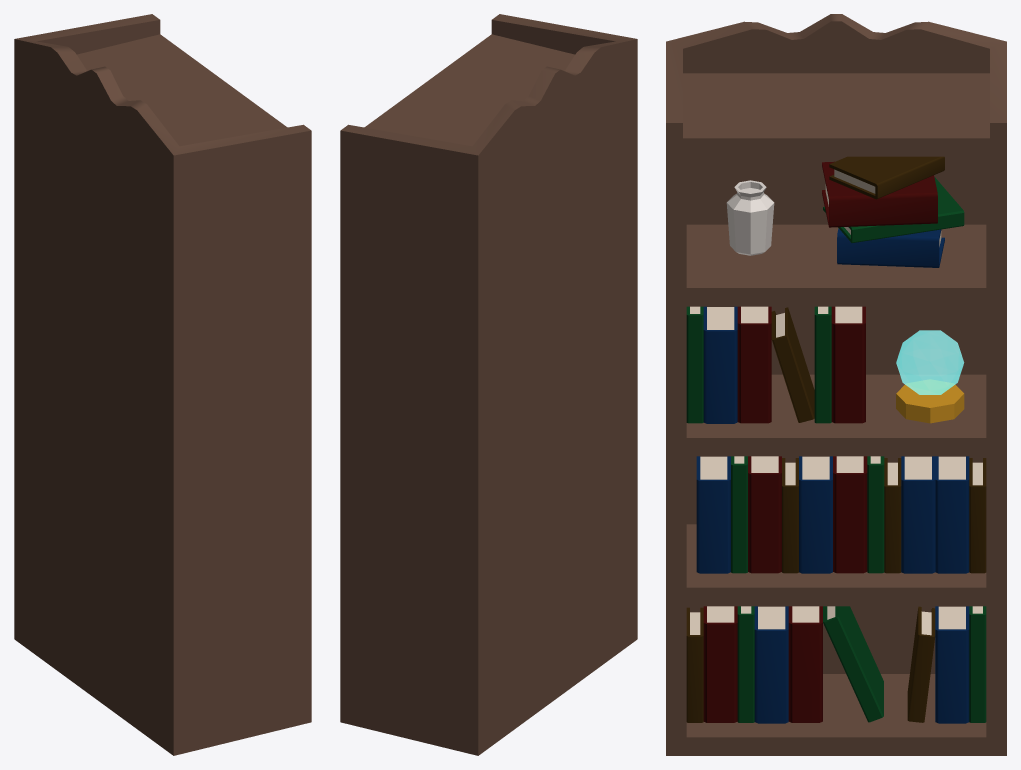
The picture shows the model from 3 angles, left to right: view 1: azimuth 30°, elevation 25°; view 2: azimuth 150°, elevation 25°; view 3: azimuth 270°, elevation 25°; orthographic projection. The views are drawn at different scales.
Visible parts, largest first — view 1: Bookshelf_0.5x1x2_proxy.000_0; view 2: Bookshelf_0.5x1x2_proxy.000_0; view 3: Bookshelf_0.5x1x2_proxy.000_0, Bookshelf_0.5x1x2_proxy.000_4, Bookshelf_0.5x1x2_proxy.000_3, Bookshelf_0.5x1x2_proxy.000_5, Bookshelf_0.5x1x2_proxy.000_1, Bookshelf_0.5x1x2_proxy.000_2, Bookshelf_0.5x1x2_proxy.000_6, Bookshelf_0.5x1x2_proxy.000_8, Bookshelf_0.5x1x2_proxy.000_7.
Part boxes in pixels (x1,y1,x2,y2): Bookshelf_0.5x1x2_proxy.000_0: (14,14,311,755); Bookshelf_0.5x1x2_proxy.000_0: (340,14,637,755); Bookshelf_0.5x1x2_proxy.000_0: (666,14,1006,755); Bookshelf_0.5x1x2_proxy.000_4: (696,228,969,723); Bookshelf_0.5x1x2_proxy.000_3: (703,161,937,722); Bookshelf_0.5x1x2_proxy.000_5: (686,177,986,722); Bookshelf_0.5x1x2_proxy.000_1: (686,156,986,722); Bookshelf_0.5x1x2_proxy.000_2: (690,169,982,635); Bookshelf_0.5x1x2_proxy.000_6: (896,330,964,394); Bookshelf_0.5x1x2_proxy.000_8: (726,180,774,255); Bookshelf_0.5x1x2_proxy.000_7: (896,379,964,423).
Bounding box in the file's own units: 0.5 × 2.17 × 1.
